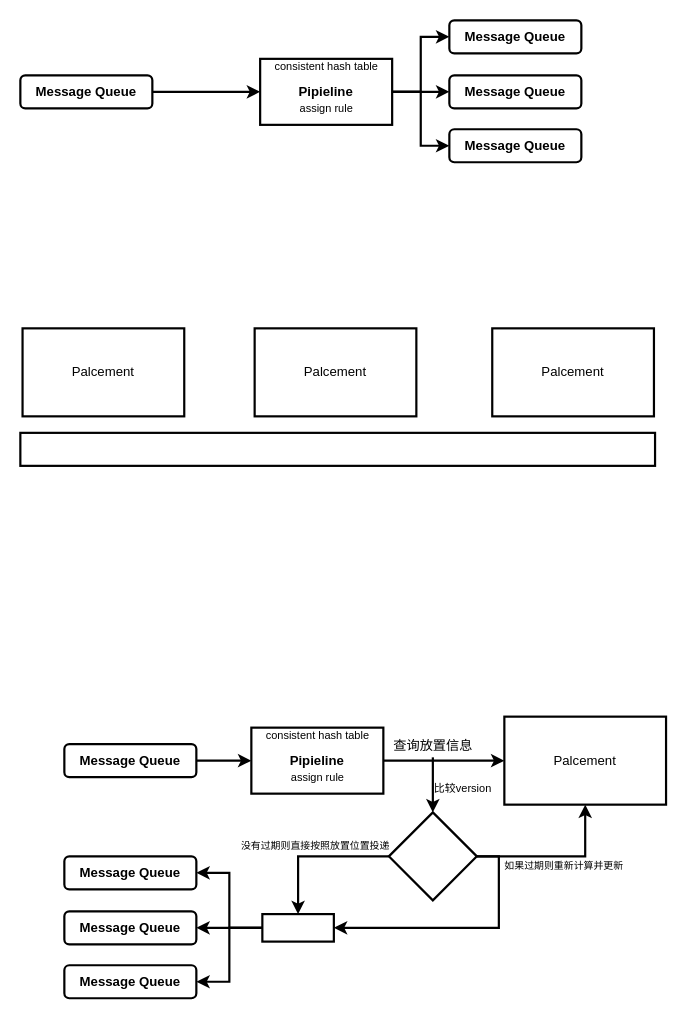
Image size: 685x1018. Some labels were removed from this diagram. The centre of each missing label's shape, as x and y in pixels:
Expired: the point at 432,856
Raft: the point at 337,448
投递: the point at 297,927
